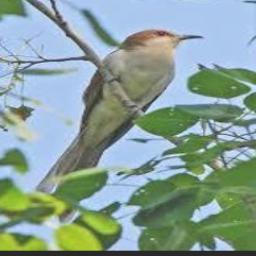Cuckoo: (33, 29, 205, 221)
